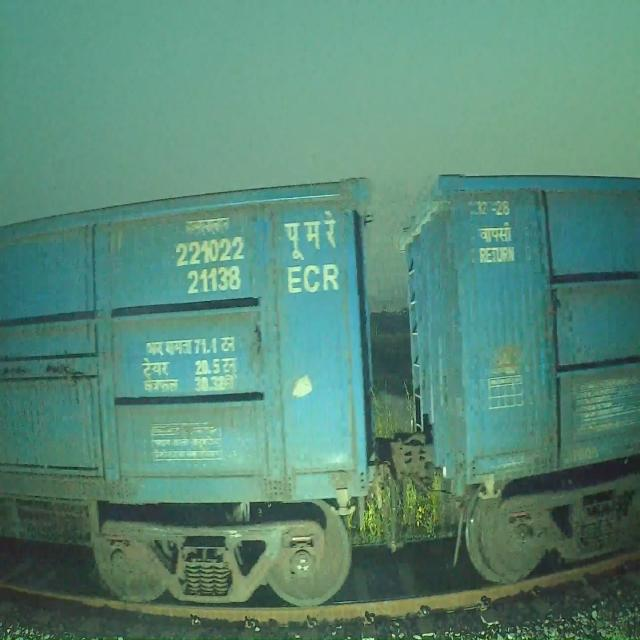WAgon-uic: (0, 177, 374, 606), (398, 175, 638, 583)
uic: (175, 235, 249, 295)
